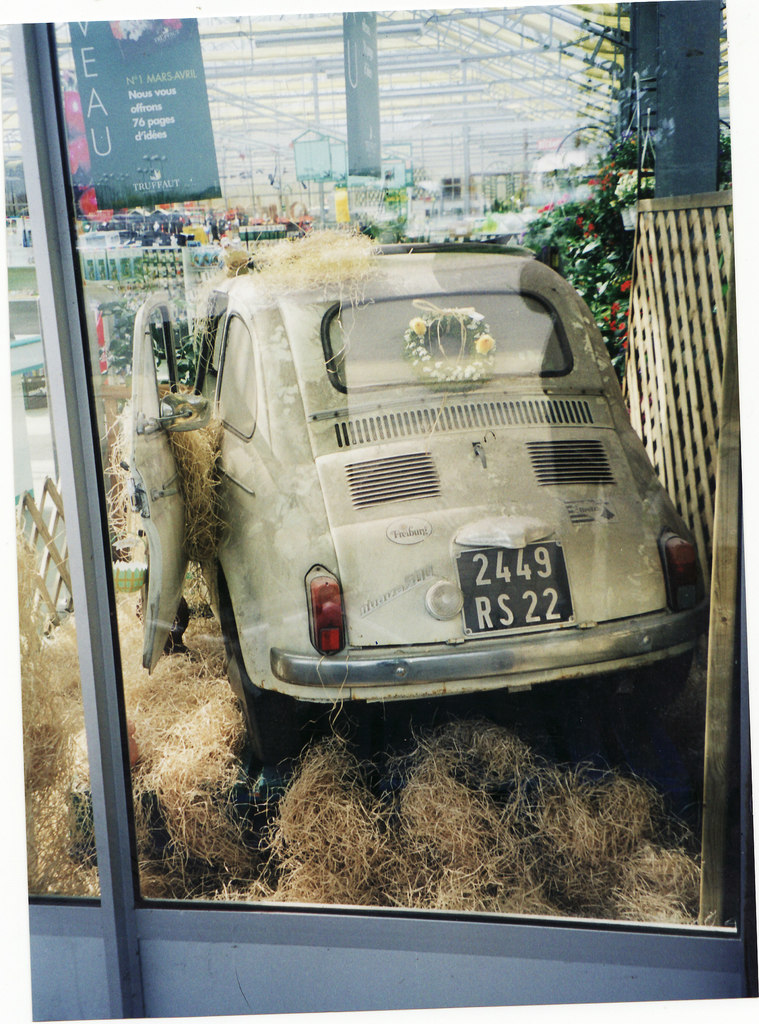cars: (113, 233, 715, 765)
